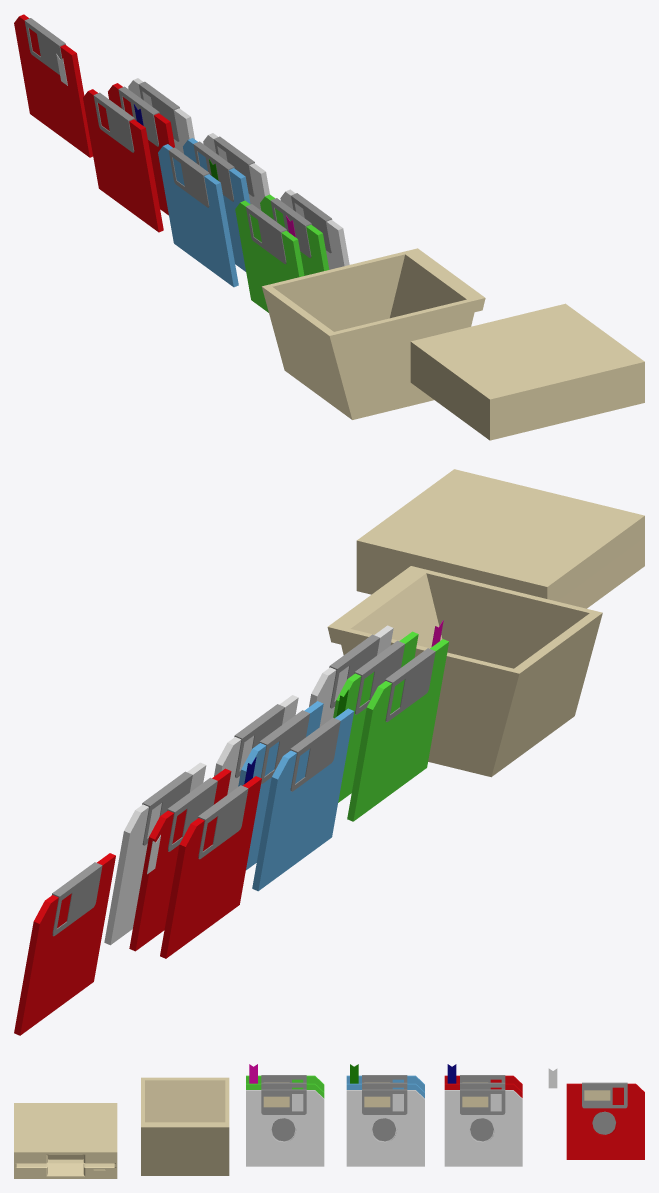
File: floppyDisks (2).fbx
The picture shows the model from 3 angles, top to bottom: view 1: azimuth 30°, elevation 25°; view 2: azimuth 150°, elevation 25°; view 3: azimuth 270°, elevation 25°; orthographic projection. The views are drawn at different scales.
Visible parts, largest first — view 1: Cube, Cube.005, Cube.007, Cube.008, Cube.014, Cube.001, Cube.004, Cube.003, Cube.006, Cube.002, Cube.010, Cube.016 (+2 smaller); view 2: Cube, Cube.005, Cube.007, Cube.001, Cube.008, Cube.014, Cube.010, Cube.016, Cube.003, Cube.004, Cube.006, Cube.002 (+2 smaller); view 3: Cube, Cube.005, Cube.002, Cube.010, Cube.006, Cube.014, Cube.015, Cube.008, Cube.001, Cube.007, Cube.003, Cube.004 (+4 smaller).
Boxes of the visible parts, x1,y1,x2,y2 form: Cube: [261, 248, 485, 419]; Cube.005: [410, 303, 644, 440]; Cube.007: [158, 144, 238, 287]; Cube.008: [83, 89, 163, 232]; Cube.014: [14, 14, 93, 157]; Cube.001: [235, 200, 304, 312]; Cube.004: [183, 138, 250, 271]; Cube.003: [260, 194, 329, 275]; Cube.006: [280, 189, 349, 269]; Cube.002: [203, 133, 269, 210]; Cube.010: [128, 78, 194, 153]; Cube.016: [108, 83, 174, 215]; Cube: [327, 566, 602, 777]; Cube.005: [356, 469, 644, 608]; Cube.007: [252, 689, 354, 891]; Cube.001: [347, 620, 448, 821]; Cube.008: [160, 757, 261, 958]; Cube.014: [14, 853, 115, 1035]; Cube.010: [104, 762, 206, 945]; Cube.016: [129, 768, 231, 951]; Cube.003: [333, 631, 418, 802]; Cube.004: [238, 701, 323, 870]; Cube.006: [309, 625, 393, 726]; Cube.002: [214, 695, 298, 794]; Cube: [141, 1077, 229, 1175]; Cube.005: [14, 1103, 117, 1178]; Cube.002: [346, 1089, 424, 1166]; Cube.010: [444, 1089, 522, 1166]; Cube.006: [246, 1089, 324, 1166]; Cube.014: [566, 1083, 644, 1159]; Cube.015: [582, 1082, 627, 1134]; Cube.008: [444, 1064, 522, 1091]; Cube.001: [246, 1064, 324, 1091]; Cube.007: [346, 1064, 424, 1091]; Cube.003: [246, 1082, 324, 1098]; Cube.004: [346, 1082, 424, 1098].
Bounding box in the file's own units: 214 × 124 × 817.
